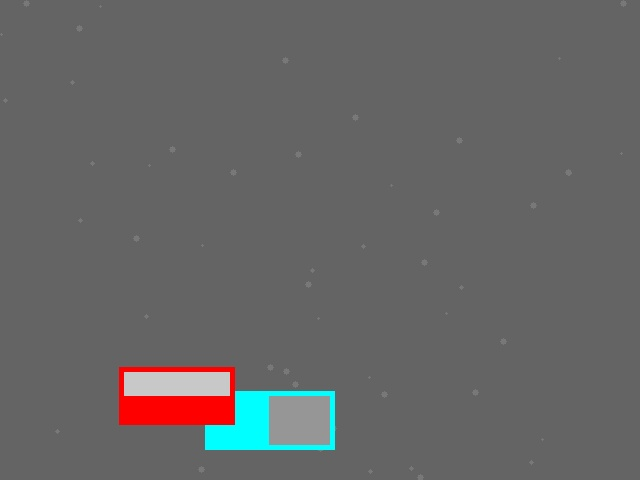car: (119, 367, 234, 424)
truck: (205, 391, 334, 449)
